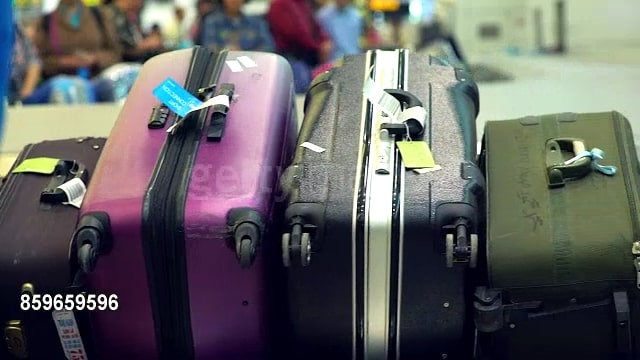baggage: (85, 47, 301, 360), (287, 45, 492, 360), (474, 107, 640, 360)
